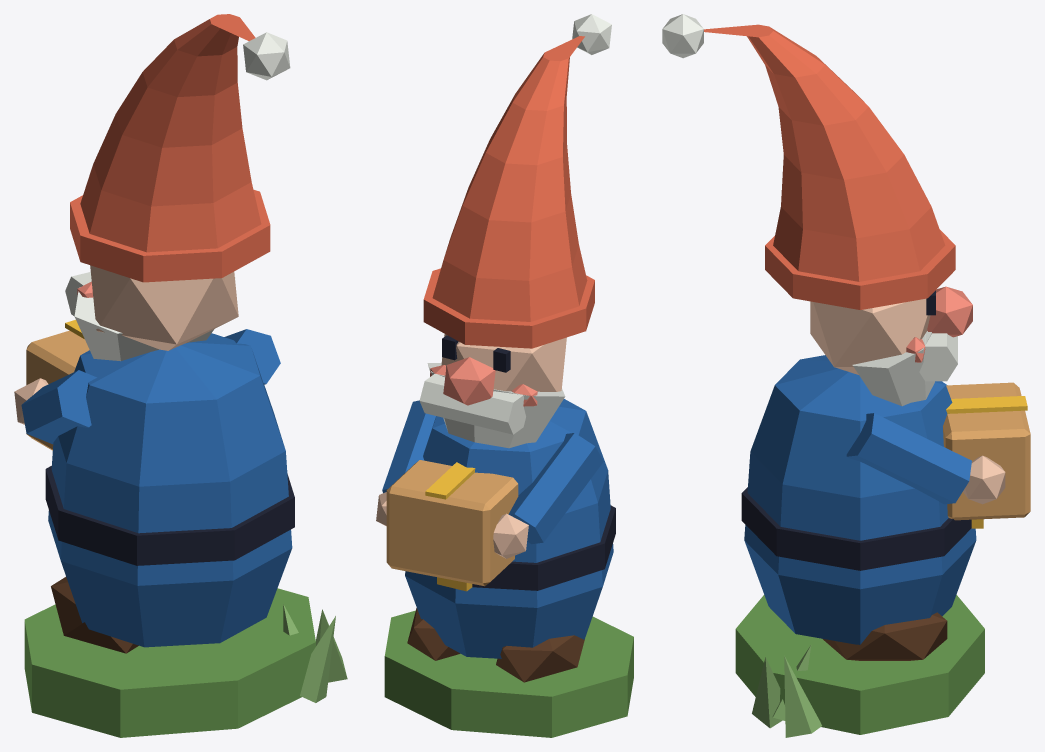
Rendered from sm_env_yard_garden_gnome.glb.
3 renders of one model, left to right at view 1: azimuth 30°, elevation 25°; view 2: azimuth 150°, elevation 25°; view 3: azimuth 270°, elevation 25°, orthographic. The views are drawn at different scales.
Parts seen in each view (by area): view 1: GnomeBody, GnomeHat, GnomeBase, GnomeBelt, GnomeFace, GnomeHatBrim, GnomeArm, GnomeParcel, GnomeBeard, GnomeBoot, GnomeBobble, GrassTuft.002 (+3 smaller); view 2: GnomeHat, GnomeBody, GnomeBase, GnomeParcel, GnomeHatBrim, GnomeArm, GnomeBelt, GnomeFace, GnomeMoustache, GnomeBoot, GnomeBeard, GnomeArm.001 (+5 smaller); view 3: GnomeBody, GnomeHat, GnomeBase, GnomeParcel, GnomeBelt, GnomeFace, GnomeArm.001, GnomeHatBrim, GnomeBoot.001, GnomeBeard, GnomeNose, GrassTuft (+5 smaller).
Boxes of the visible parts, left/top/right/bottom form: GnomeBody: left=48, top=333, right=292, bottom=647; GnomeHat: left=80, top=14, right=261, bottom=252; GnomeBase: left=24, top=588, right=315, bottom=737; GnomeBelt: left=45, top=465, right=294, bottom=565; GnomeFace: left=90, top=265, right=238, bottom=350; GnomeHatBrim: left=70, top=190, right=270, bottom=282; GnomeArm: left=21, top=370, right=96, bottom=444; GnomeParcel: left=26, top=330, right=89, bottom=450; GnomeBeard: left=74, top=277, right=235, bottom=361; GnomeBoot: left=51, top=577, right=138, bottom=653; GnomeBobble: left=243, top=32, right=290, bottom=80; GrassTuft.002: left=300, top=616, right=335, bottom=702; GnomeHat: left=432, top=36, right=587, bottom=321; GnomeBody: left=405, top=399, right=613, bottom=658; GnomeBase: left=384, top=610, right=633, bottom=737; GnomeParcel: left=386, top=460, right=518, bottom=586; GnomeHatBrim: left=423, top=268, right=594, bottom=348; GnomeArm: left=508, top=433, right=603, bottom=544; GnomeBelt: left=472, top=505, right=615, bottom=590; GnomeFace: left=441, top=334, right=566, bottom=391; GnomeMoustache: left=419, top=374, right=525, bottom=434; GnomeBoot: left=496, top=635, right=584, bottom=682; GnomeBeard: left=427, top=363, right=565, bottom=448; GnomeArm.001: left=382, top=400, right=435, bottom=492; GnomeBody: left=744, top=355, right=976, bottom=644; GnomeHat: left=704, top=24, right=945, bottom=281; GnomeBase: left=735, top=595, right=984, bottom=734; GnomeParcel: left=943, top=382, right=1030, bottom=520; GnomeBelt: left=741, top=487, right=971, bottom=570; GnomeFace: left=810, top=298, right=930, bottom=374; GnomeArm.001: left=846, top=413, right=971, bottom=504; GnomeHatBrim: left=765, top=229, right=955, bottom=309; GnomeBoot.001: left=823, top=612, right=947, bottom=660; GnomeBeard: left=852, top=331, right=934, bottom=406; GnomeNose: left=927, top=286, right=972, bottom=337; GrassTuft: left=784, top=656, right=821, bottom=737.
Size of the model in its own units: 0.2463 by 0.6017 by 0.3013.
